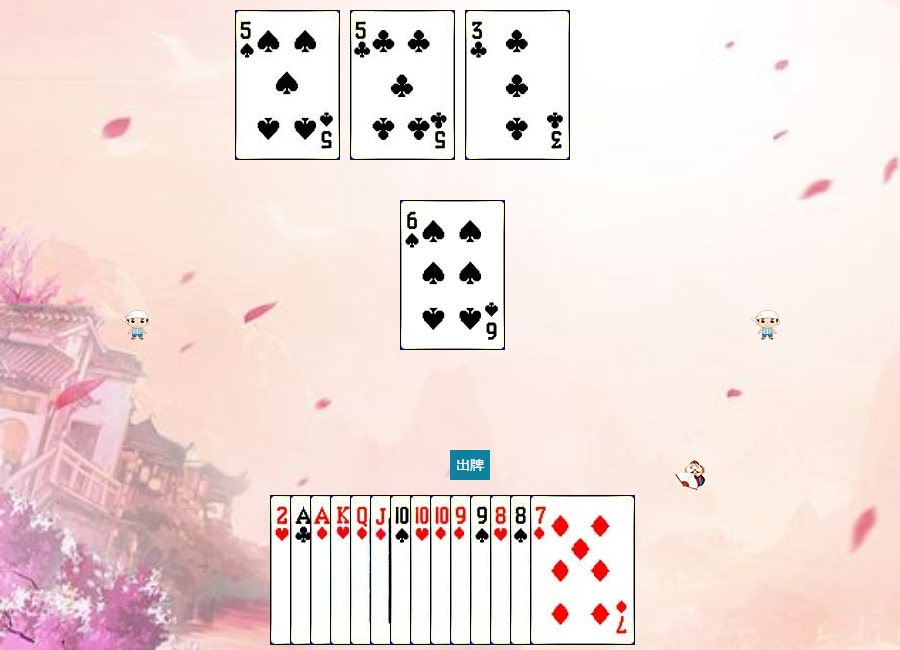10~1: (430, 495, 535, 645)
10~3: (410, 495, 515, 645)
10~4: (390, 495, 495, 645)
11~1: (370, 495, 475, 645)
12~1: (350, 495, 455, 645)
13~3: (330, 495, 435, 645)
14~1: (310, 495, 415, 645)
14~2: (290, 495, 395, 645)
15~3: (270, 495, 375, 645)
3~2: (465, 10, 570, 160)
5~2: (350, 10, 455, 160)
5~4: (235, 10, 340, 160)
6~4: (400, 200, 505, 350)
7~1: (530, 495, 635, 645)
8~3: (490, 495, 595, 645)
8~4: (510, 495, 615, 645)
9~1: (450, 495, 555, 645)
9~4: (470, 495, 575, 645)
